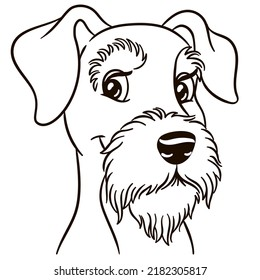dog: (9, 4, 242, 261)
